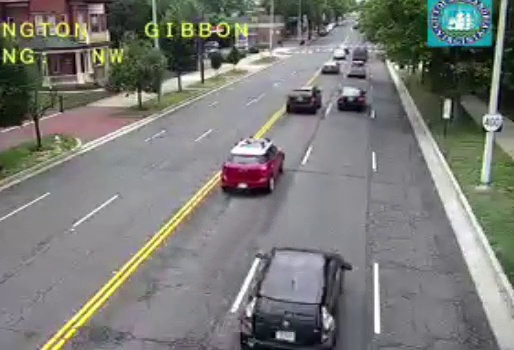car: (239, 248, 343, 350), (220, 137, 285, 191), (286, 88, 320, 113), (338, 86, 365, 110)
